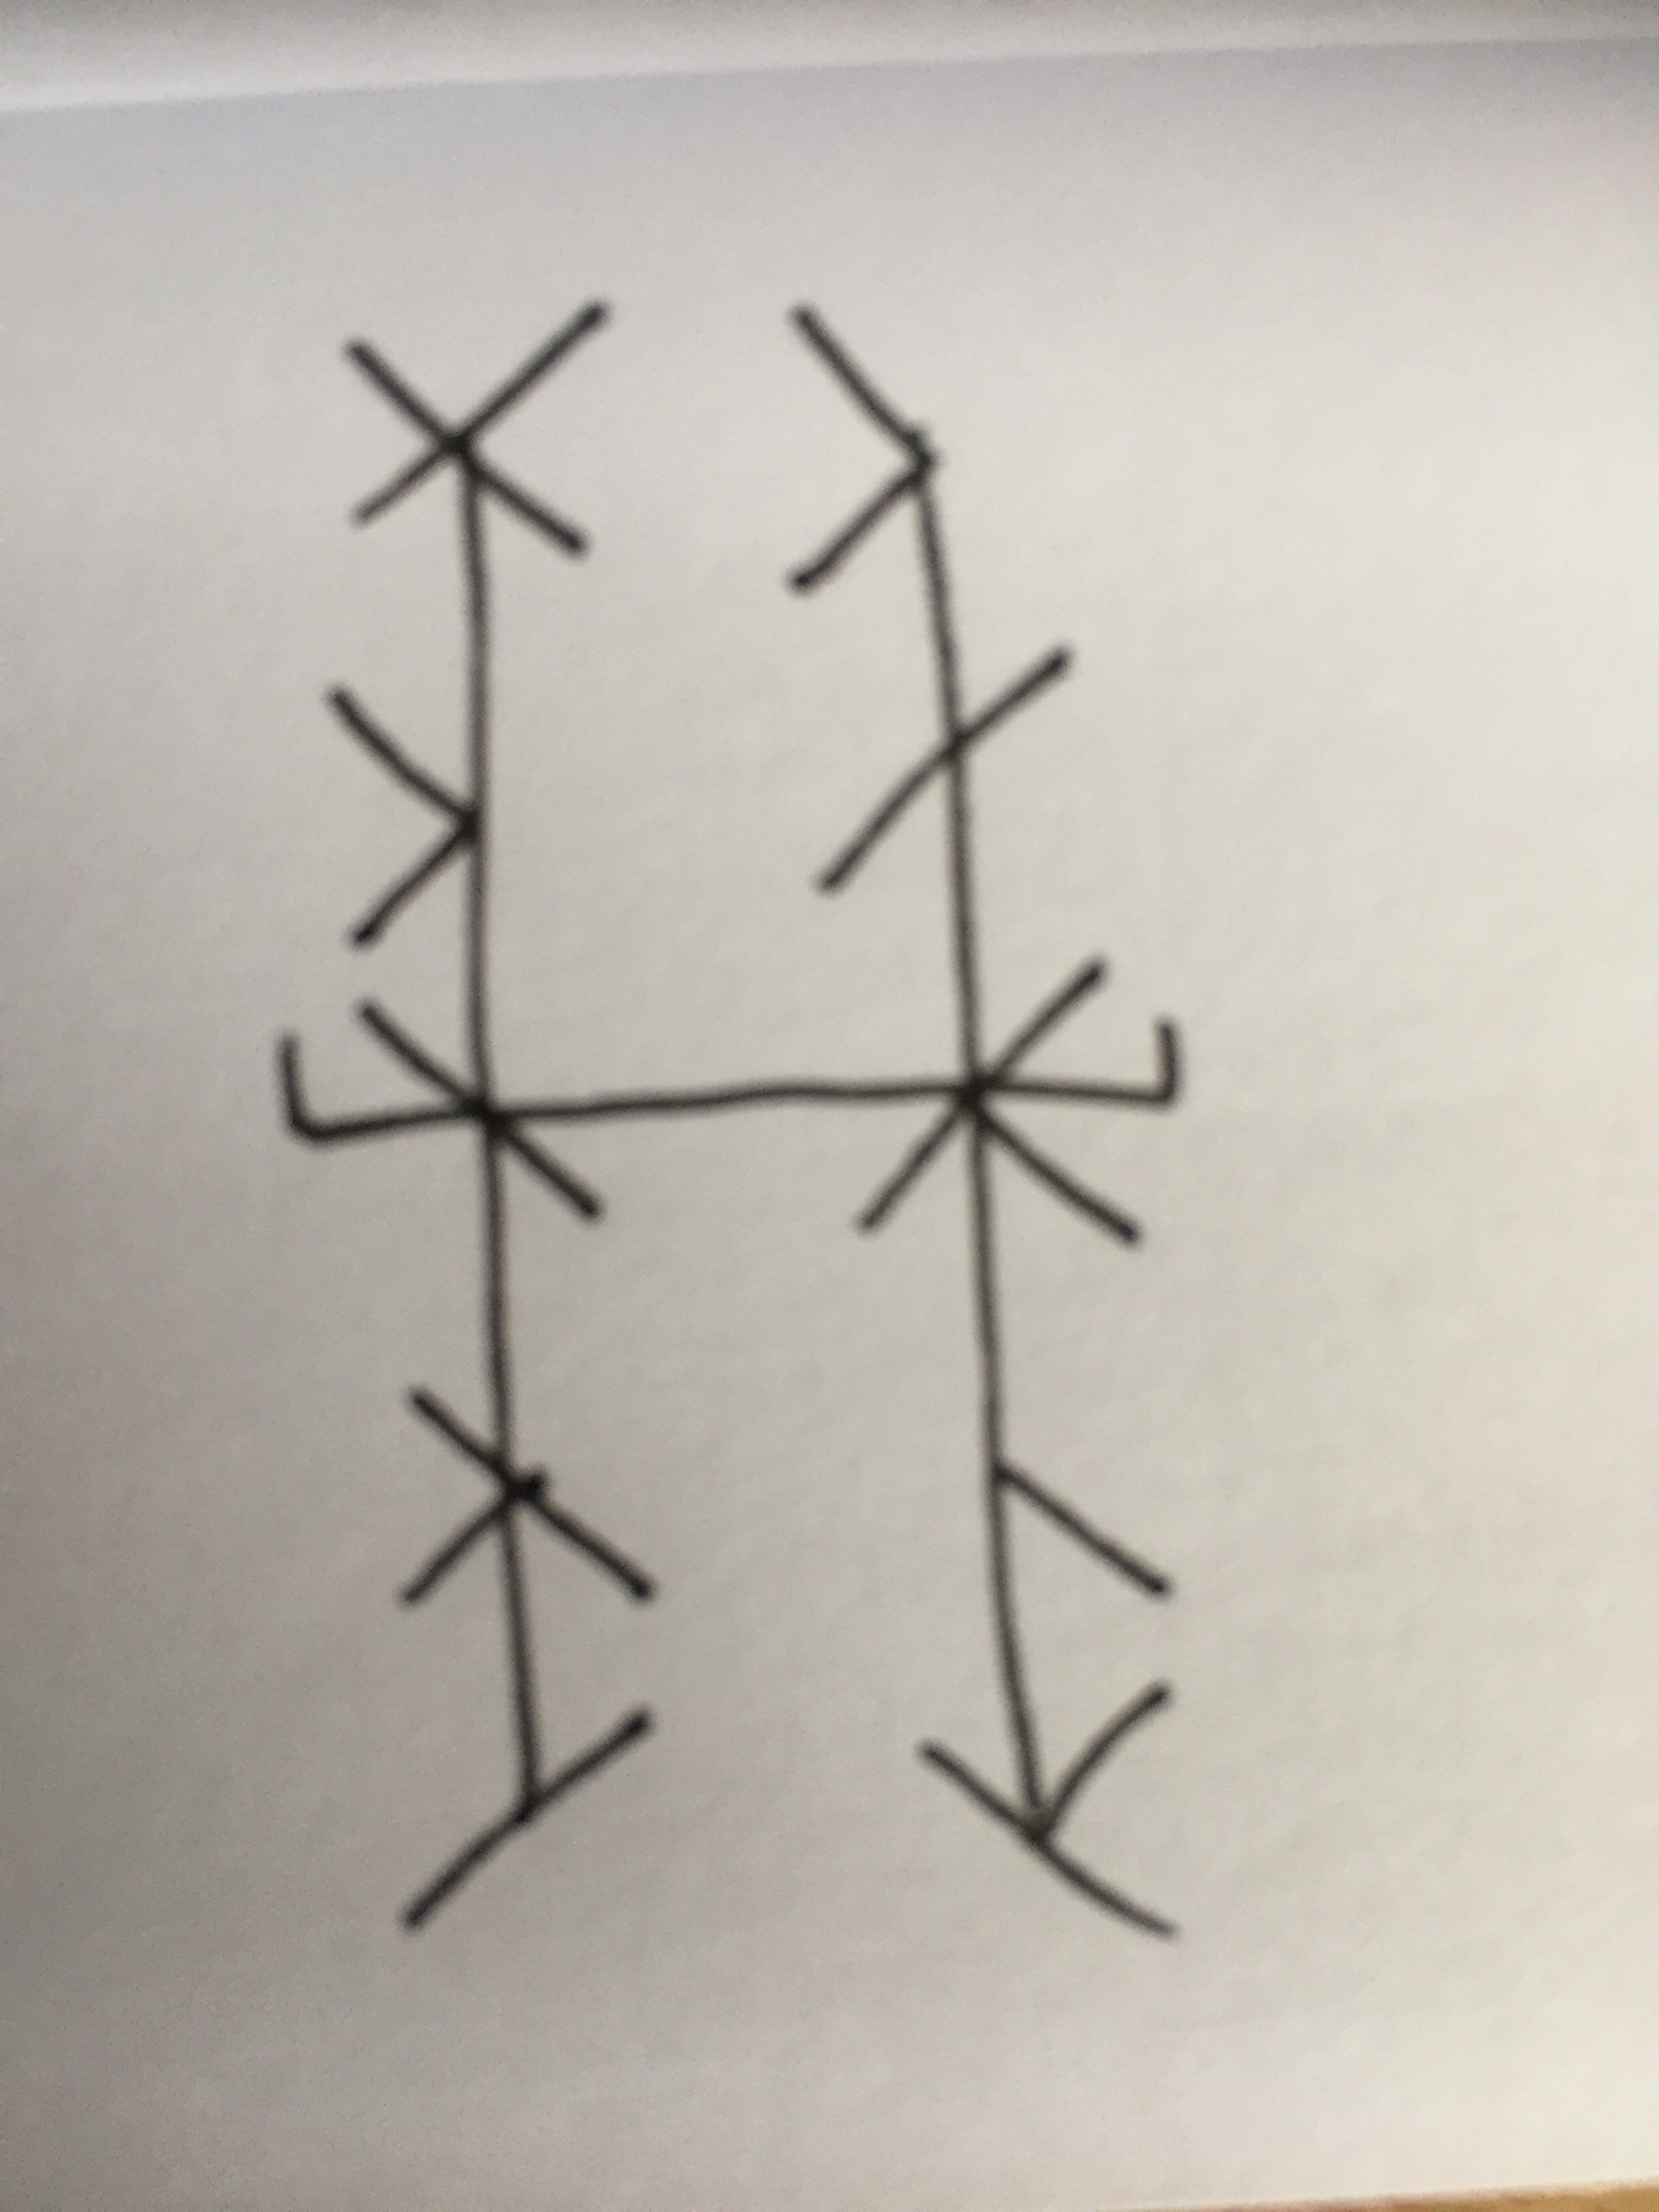Bar: (784, 300, 1183, 1949), (345, 298, 657, 1937)
Barcode: (274, 296, 1183, 1949)
End: (1070, 1015, 1182, 1113)
Start: (274, 1029, 366, 1148)
